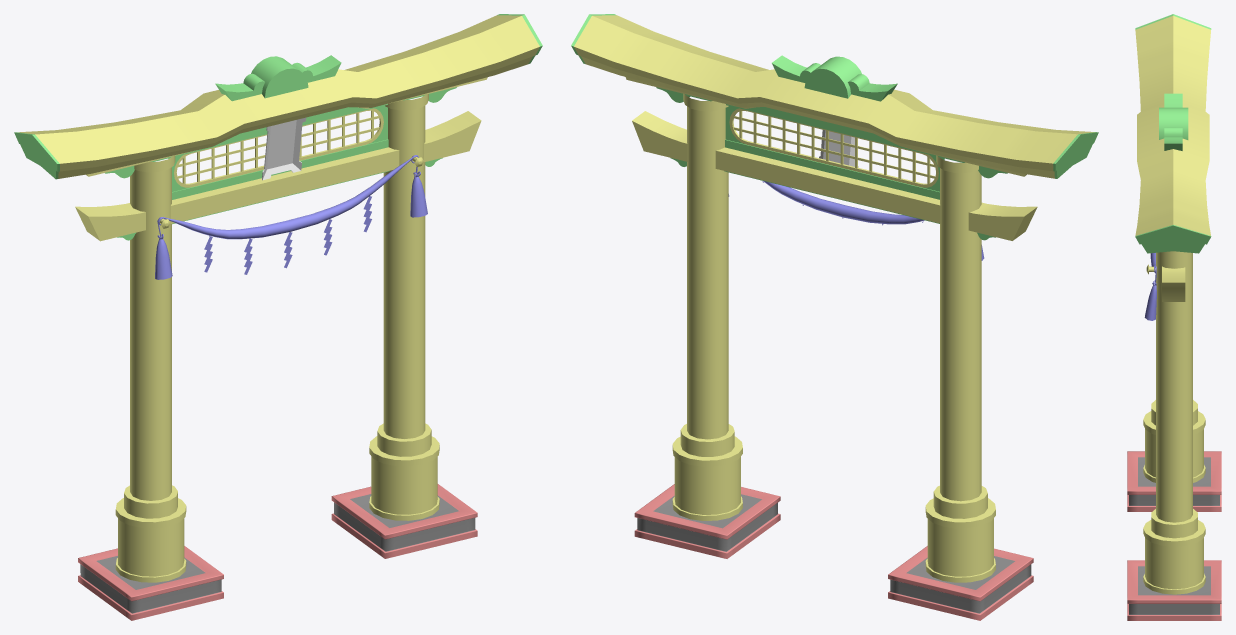
File: SM_ENV_LKNVLD_Torii_Sun.gltf
3 views of the same model, side by side, from view 1: azimuth 30°, elevation 25°; view 2: azimuth 150°, elevation 25°; view 3: azimuth 270°, elevation 25° (orthographic). The views are drawn at different scales.
Visible parts, largest first — view 1: SM_ENV_LKNVLD_Torii_Sun; view 2: SM_ENV_LKNVLD_Torii_Sun; view 3: SM_ENV_LKNVLD_Torii_Sun.
Boxes of the visible parts, x1,y1,x2,y2 form: SM_ENV_LKNVLD_Torii_Sun: (14,14,542,620); SM_ENV_LKNVLD_Torii_Sun: (571,14,1098,620); SM_ENV_LKNVLD_Torii_Sun: (1127,14,1221,620).
Size of the model in its own units: 13.61 by 13.11 by 2.56.
